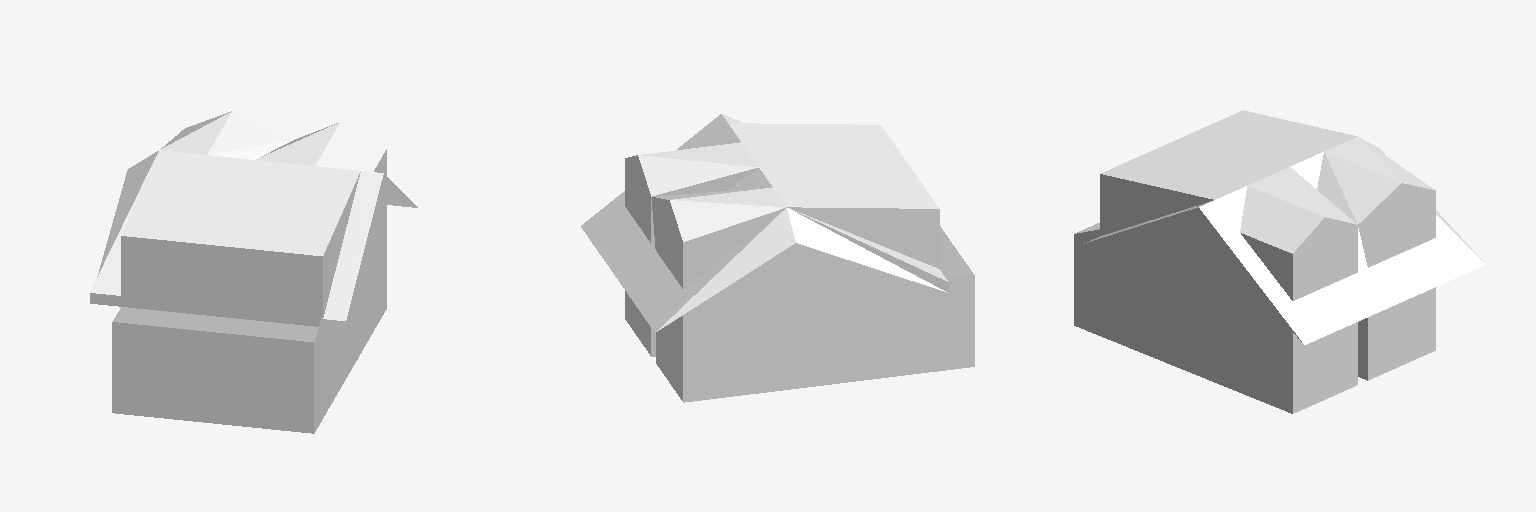
The model's file is house_Shape 238.obj.
3 renders of one model, left to right at view 1: azimuth 30°, elevation 25°; view 2: azimuth 150°, elevation 25°; view 3: azimuth 270°, elevation 25°, orthographic.
Visible parts, largest first — view 1: CityEngineMaterial_109, CityEngineMaterial_4, CityEngineMaterial_110, CityEngineMaterial_137, CityEngineMaterial_138; view 2: CityEngineMaterial_4, CityEngineMaterial_109, CityEngineMaterial_110, CityEngineMaterial_138, CityEngineMaterial_137; view 3: CityEngineMaterial_110, CityEngineMaterial_4, CityEngineMaterial_138.
Boxes of the visible parts, box(x1,y1,x2,y2) form: CityEngineMaterial_109: box(90, 236, 322, 433); CityEngineMaterial_4: box(90, 111, 416, 320); CityEngineMaterial_110: box(314, 149, 417, 433); CityEngineMaterial_137: box(113, 307, 318, 341); CityEngineMaterial_138: box(323, 172, 360, 281); CityEngineMaterial_4: box(581, 114, 948, 332); CityEngineMaterial_109: box(683, 250, 974, 402); CityEngineMaterial_110: box(625, 155, 939, 400); CityEngineMaterial_138: box(683, 207, 815, 265); CityEngineMaterial_137: box(940, 226, 974, 278); CityEngineMaterial_110: box(1074, 183, 1435, 413); CityEngineMaterial_4: box(1084, 110, 1485, 344); CityEngineMaterial_138: box(1100, 174, 1212, 244).
Bounding box in the file's own units: 12.09 × 6.02 × 12.34.